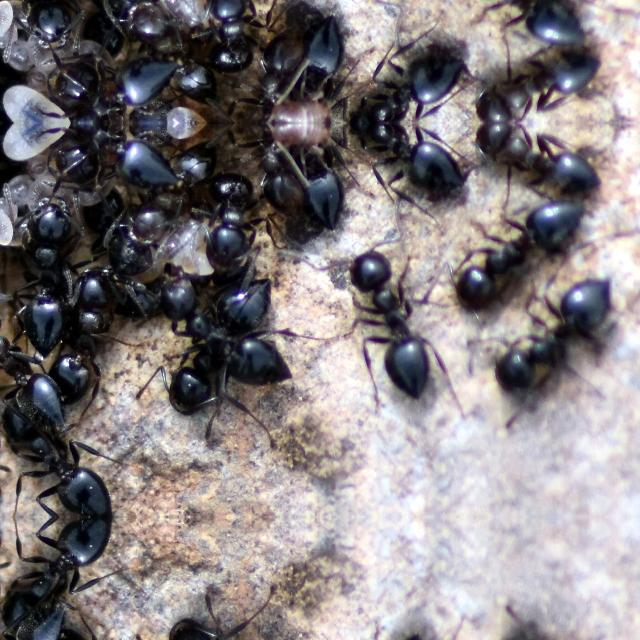Crematogaster: (155, 266, 313, 394), (158, 266, 280, 420), (338, 237, 449, 397), (3, 196, 82, 364), (42, 256, 116, 404), (118, 139, 220, 243), (118, 1, 220, 105), (66, 122, 174, 192), (66, 52, 174, 122), (296, 122, 362, 234), (296, 10, 362, 122), (205, 165, 269, 271), (205, 0, 269, 79), (3, 0, 82, 48)
